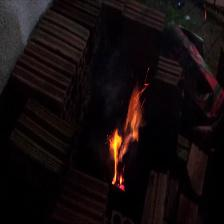fire: (105, 88, 148, 192)
